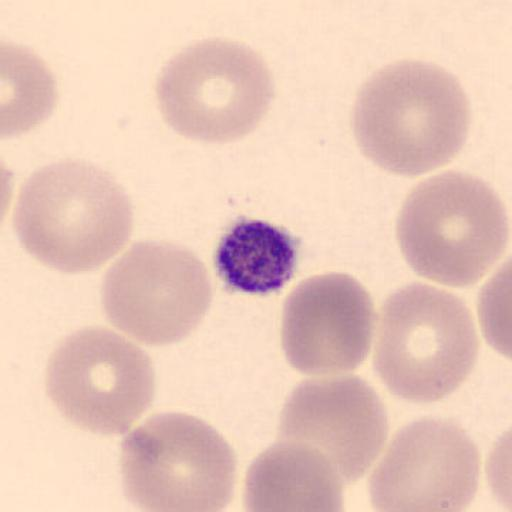Platelet: (209, 214, 304, 297)
RBC: (349, 57, 472, 180), (10, 156, 135, 276), (394, 167, 511, 290), (153, 35, 277, 147), (371, 282, 481, 406), (274, 372, 389, 488), (42, 324, 156, 438), (98, 237, 215, 348), (118, 409, 239, 512), (368, 413, 482, 512), (279, 270, 377, 377), (241, 438, 345, 512), (1, 39, 60, 140), (476, 258, 512, 363), (485, 424, 512, 511), (1, 153, 16, 225), (0, 160, 14, 235)
